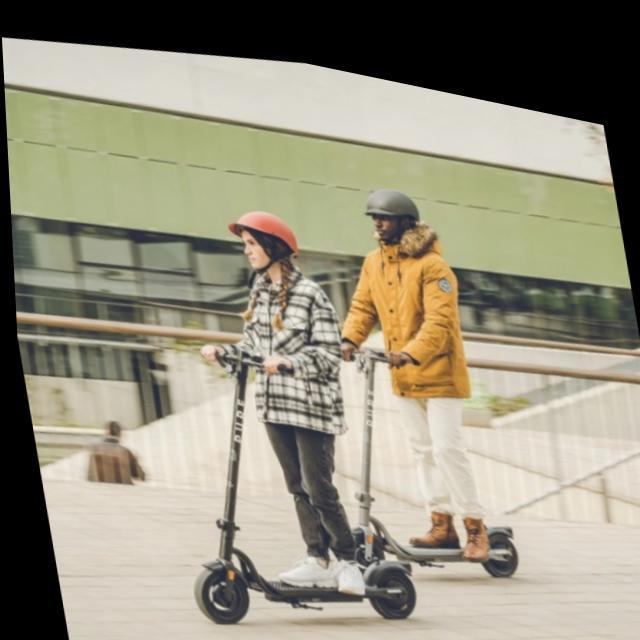Helmet: (223, 203, 304, 272), (359, 183, 427, 246)
